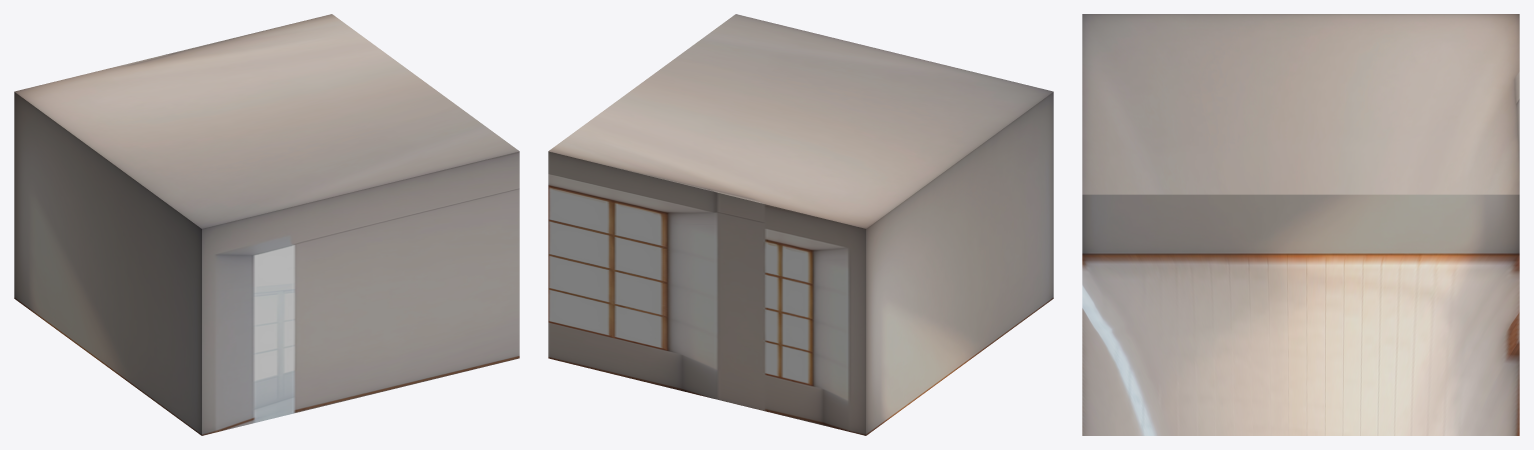
File: room_test3.glb
3 views of the same model, side by side, from view 1: azimuth 30°, elevation 25°; view 2: azimuth 150°, elevation 25°; view 3: azimuth 270°, elevation 25° (orthographic). The views are drawn at different scales.
Parts seen in each view (by area): view 1: wall_left, roof, wall_bottom; view 2: wall_right, roof, wall_bottom; view 3: roof, floor, wall_bottom.
Part boxes in pixels (bbox=[...]): wall_left: bbox=[202, 151, 519, 435]; roof: bbox=[14, 14, 519, 228]; wall_bottom: bbox=[14, 92, 201, 435]; wall_right: bbox=[548, 151, 865, 435]; roof: bbox=[548, 14, 1053, 228]; wall_bottom: bbox=[866, 92, 1053, 435]; roof: bbox=[1082, 14, 1519, 194]; floor: bbox=[1082, 255, 1519, 435]; wall_bottom: bbox=[1082, 194, 1519, 255].
Bounding box in the file's own units: 4.5 × 2.8 × 4.6.
1 material, 1 textured.
